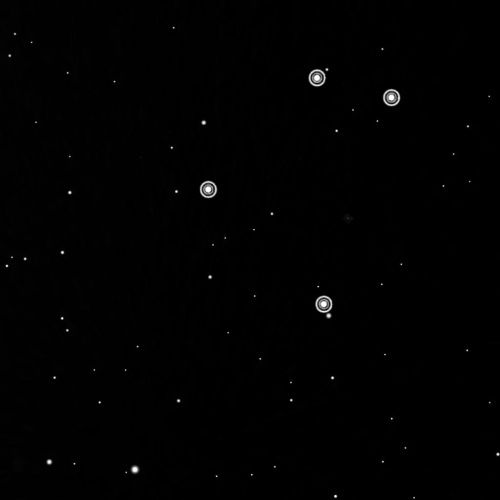coma_berenices: (193, 57, 402, 320)
